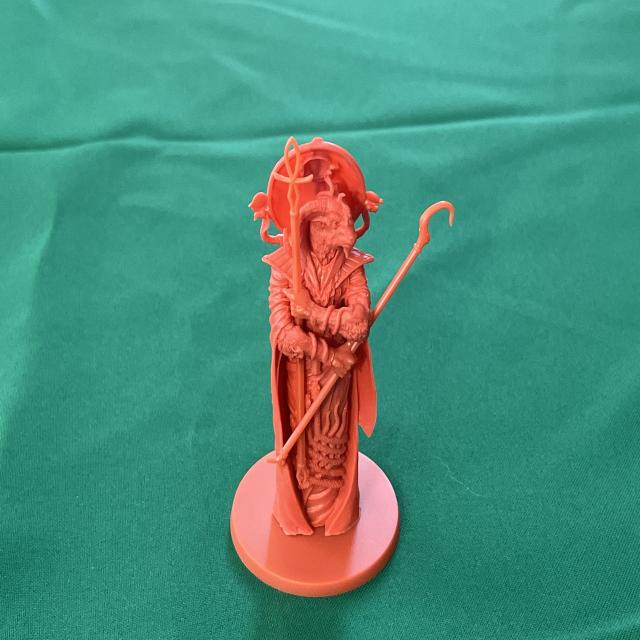amon: (224, 133, 458, 603)
